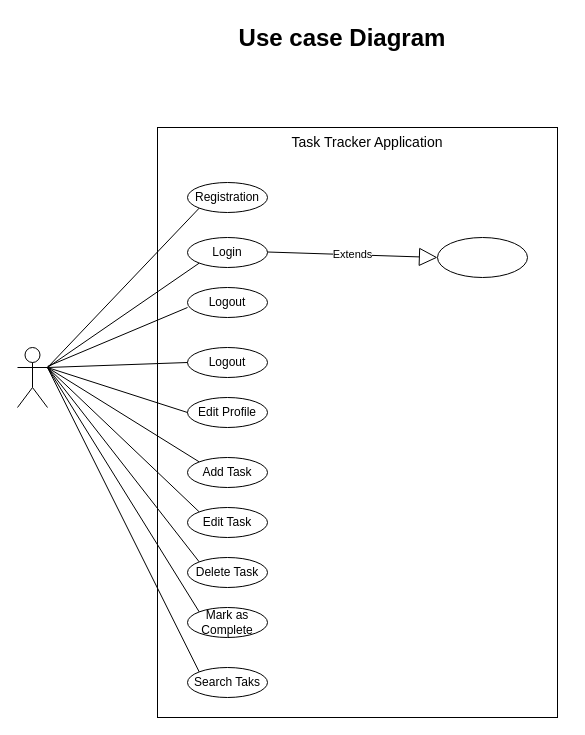
Image size: 585x735. Some labels were removed from this diagram. Each missing label, with the centre of its shape:
Actor: pixel 32 377
Display Login Errors: pixel 482 257
